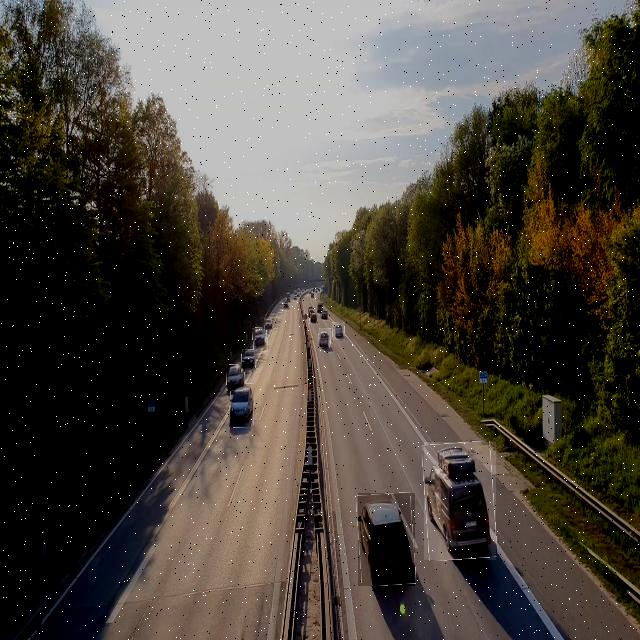Car: (424, 442, 496, 560), (358, 493, 415, 586), (229, 384, 255, 428), (227, 364, 245, 391), (253, 328, 268, 352), (242, 349, 256, 372), (319, 328, 331, 348), (332, 322, 345, 340), (264, 318, 272, 330), (310, 312, 317, 324), (320, 310, 328, 320), (317, 302, 323, 313), (283, 300, 289, 310)
